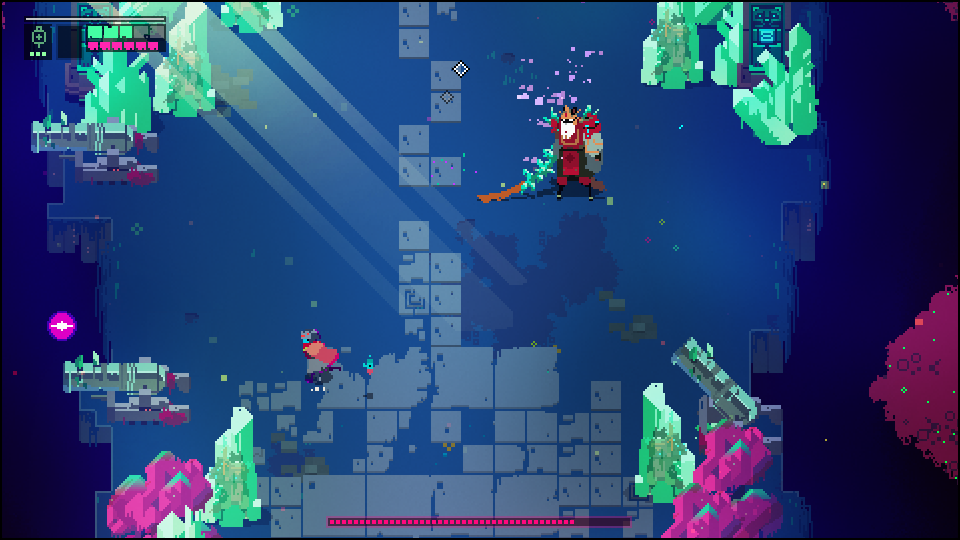hanged_man: (513, 97, 613, 206)
hanged_shot: (45, 311, 81, 343)
player: (298, 325, 340, 383)
